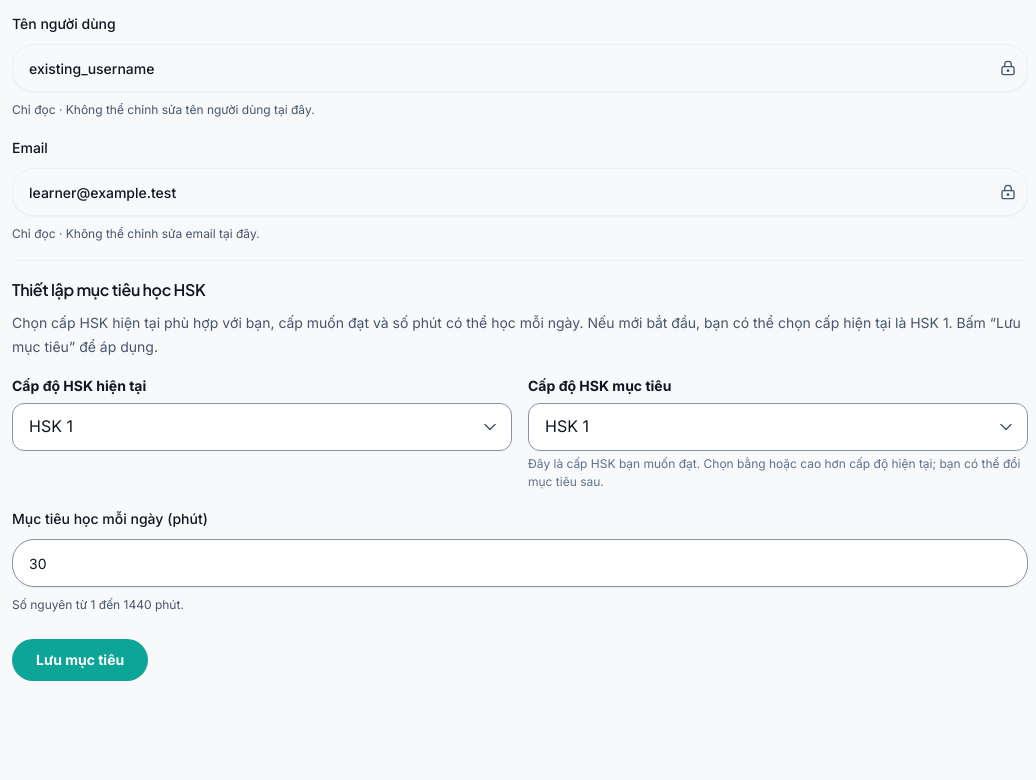
Test case: does not silently increase the target when the current level is raised
The image size is (1036, 780).
Select "HSK 3" in the dropdown labelled "Cấp độ HSK hiện tại" at (262, 427), box x1=12 y1=403 x2=512 y2=451
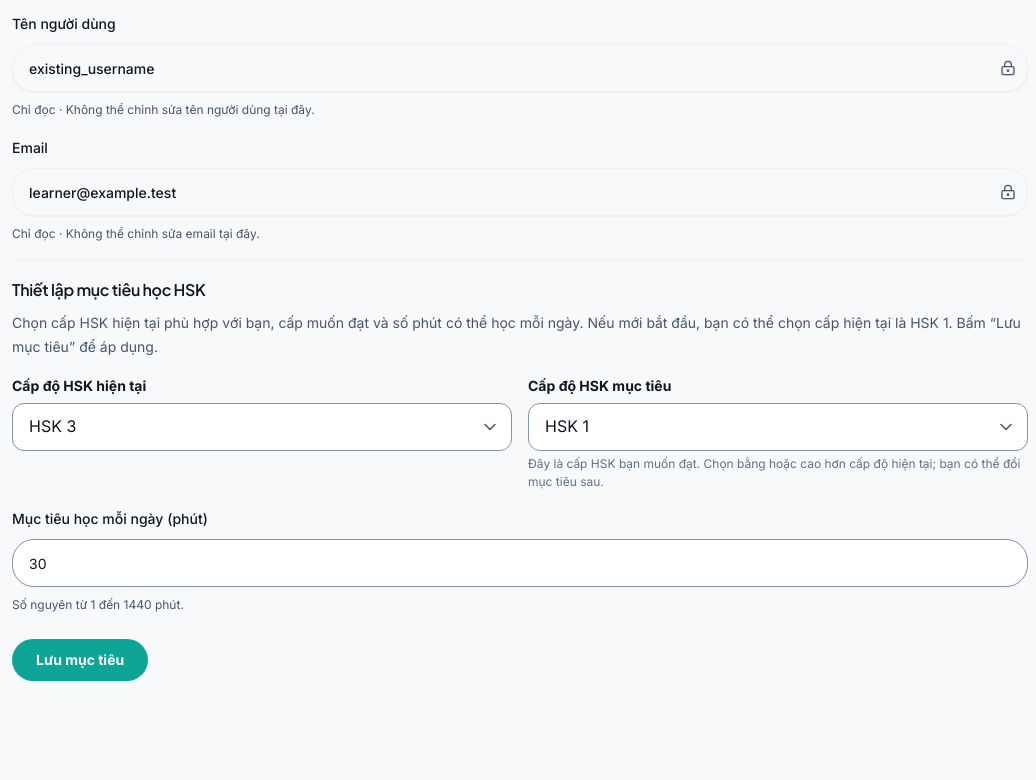
expect the dropdown labelled "Cấp độ HSK mục tiêu" shows "HSK 1": met, box x1=528 y1=403 x2=1028 y2=451
Submit the form named "Lưu mục tiêu"
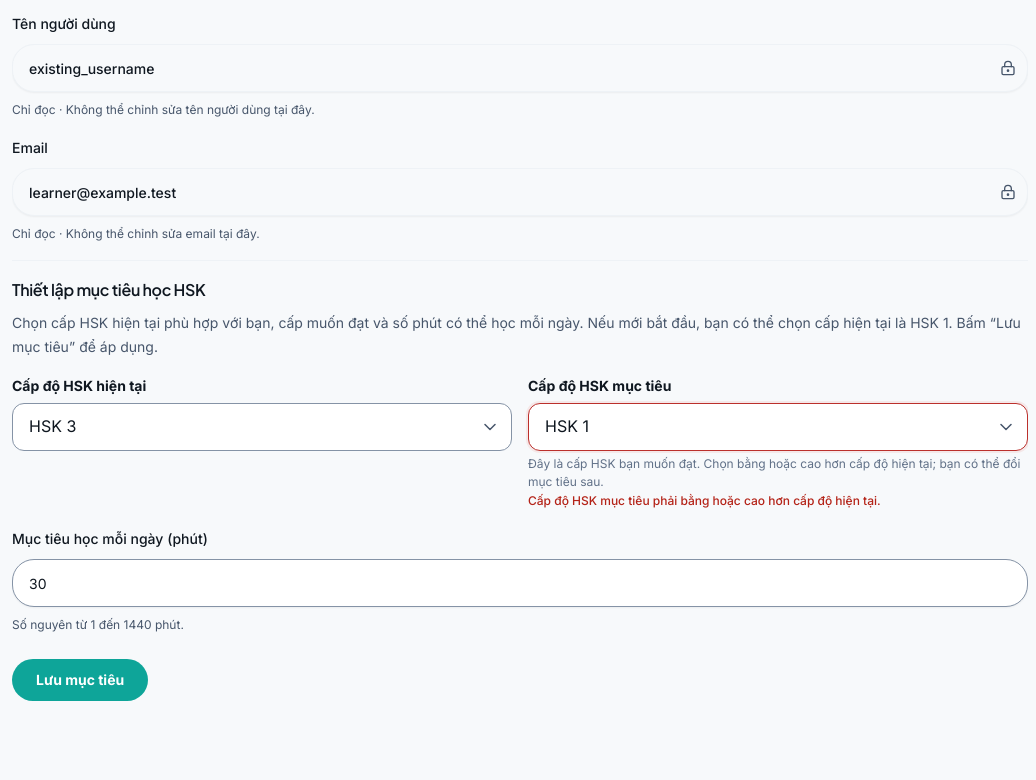
expect the text "Cấp độ HSK mục tiêu phải bằng hoặc cao hơn cấp độ hiện tại." is shown: met, box x1=528 y1=493 x2=881 y2=508
